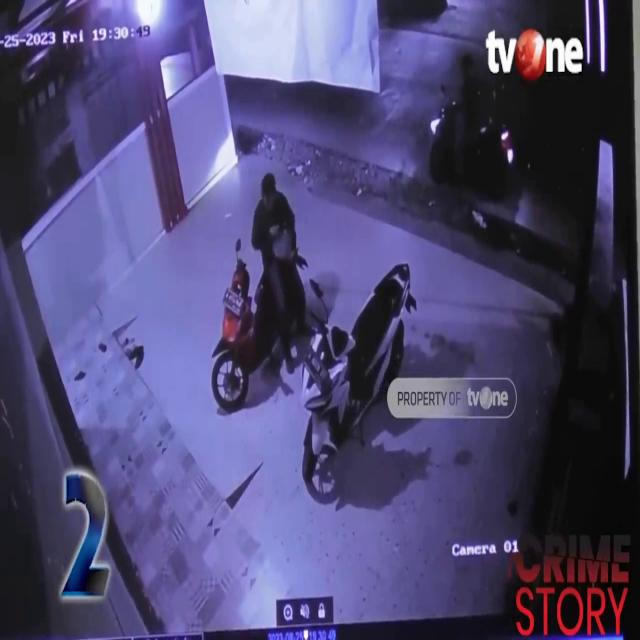pencurian: (209, 171, 309, 405)
